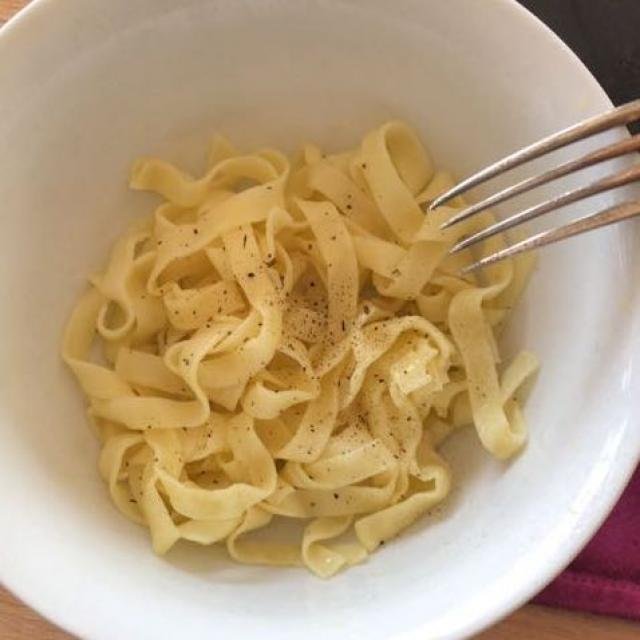pasta: (73, 127, 527, 564)
